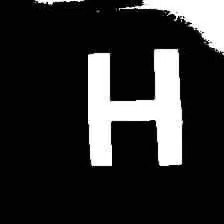LTR_H: (65, 28, 191, 177)
